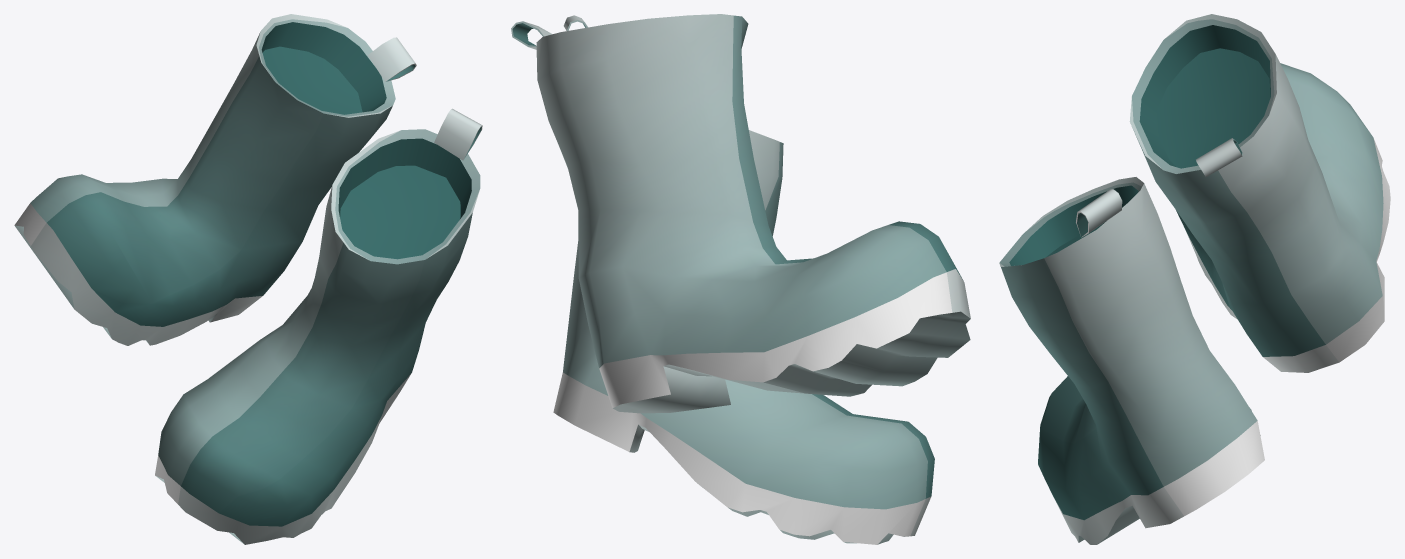
File: Diligence_RainBoots.fbx
3 renders of one model, left to right at view 1: azimuth 30°, elevation 25°; view 2: azimuth 150°, elevation 25°; view 3: azimuth 270°, elevation 25°, orthographic. The views are drawn at different scales.
Parts seen in each view (by area): view 1: Diligence_RainBoots; view 2: Diligence_RainBoots; view 3: Diligence_RainBoots.
Part boxes in pixels (left/top/right/bottom): Diligence_RainBoots: left=14, top=14, right=482, bottom=544; Diligence_RainBoots: left=511, top=14, right=970, bottom=544; Diligence_RainBoots: left=999, top=14, right=1390, bottom=544.
Bounding box in the file's own units: 17.19 × 19.42 × 12.87.
